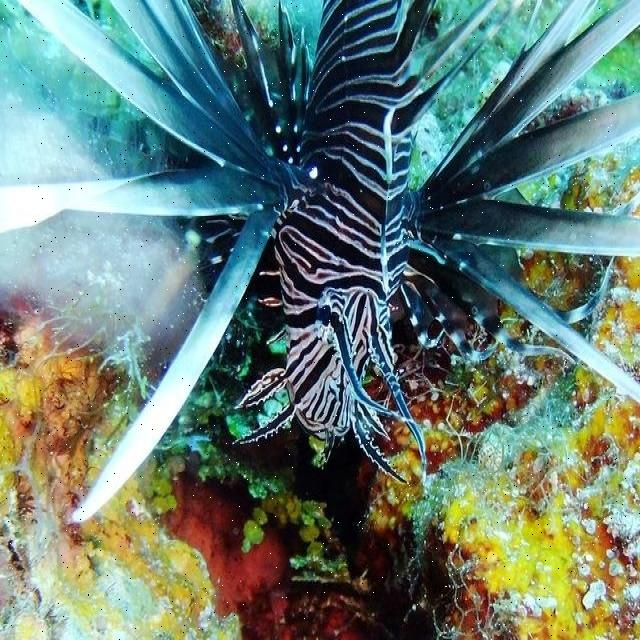fish: (0, 1, 639, 523)
